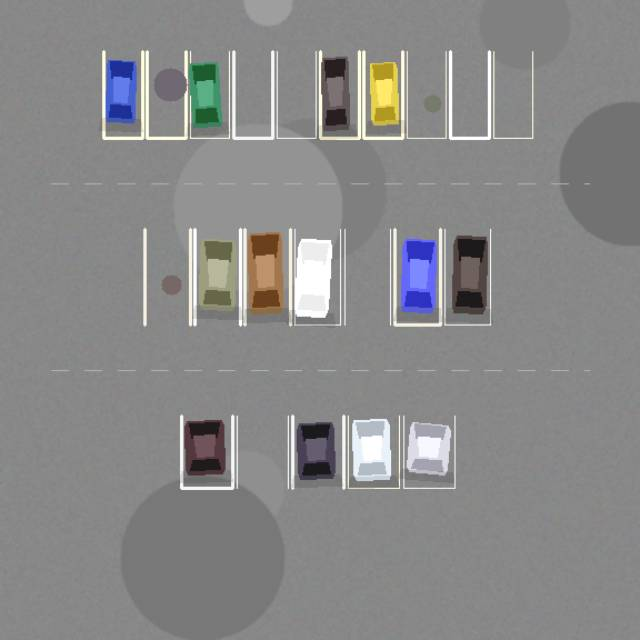space-empty: (144, 229, 190, 324), (344, 229, 390, 324), (237, 416, 288, 488), (147, 51, 186, 138), (233, 51, 272, 138), (277, 51, 316, 138), (407, 51, 446, 138), (450, 51, 489, 138), (493, 51, 532, 138)
space-occupied: (194, 229, 240, 324), (244, 229, 290, 324), (294, 229, 340, 324), (394, 229, 440, 324), (444, 229, 490, 324), (181, 416, 232, 488), (292, 416, 343, 488), (348, 416, 399, 488), (403, 416, 454, 488), (103, 51, 142, 138), (190, 51, 229, 138), (320, 51, 359, 138), (363, 51, 402, 138)
